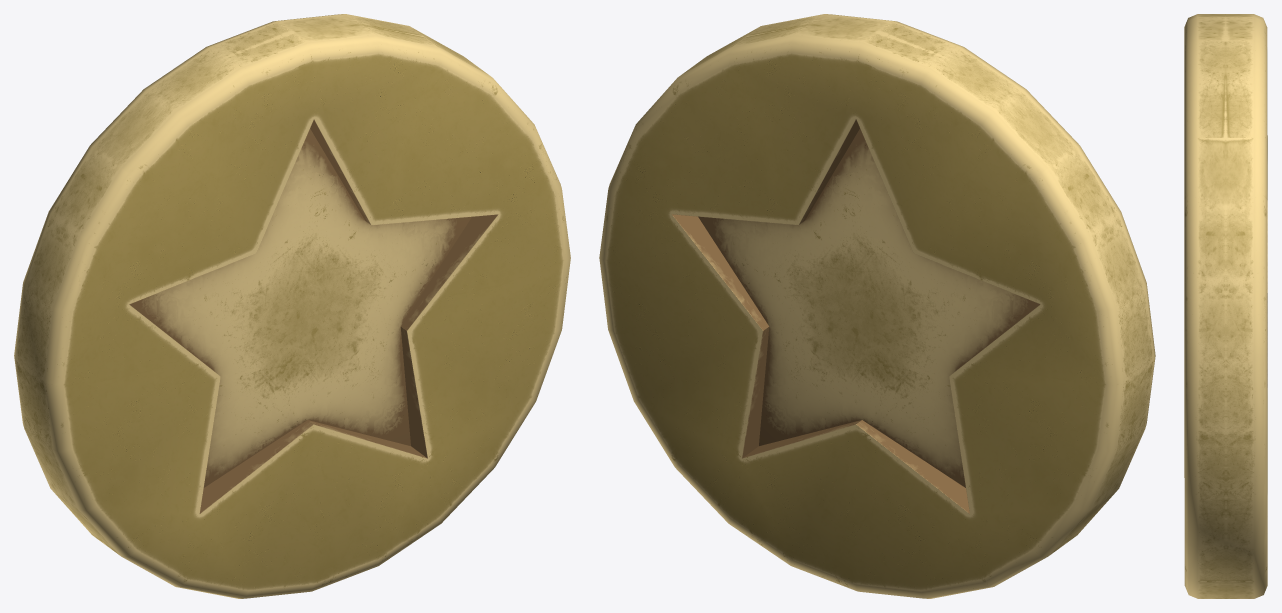
3 views of the same model, side by side, from view 1: azimuth 30°, elevation 25°; view 2: azimuth 150°, elevation 25°; view 3: azimuth 270°, elevation 25° (orthographic). The views are drawn at different scales.
Visible parts, largest first — view 1: Coin_0; view 2: Coin_0; view 3: Coin_0.
Part boxes in pixels (bbox=[...]): Coin_0: bbox=[14, 14, 570, 598]; Coin_0: bbox=[599, 14, 1155, 598]; Coin_0: bbox=[1184, 14, 1267, 598].
Bounding box in the file's own units: 0.6185 × 0.6186 × 0.0881.
Materials: 1 (1 with a texture image).
